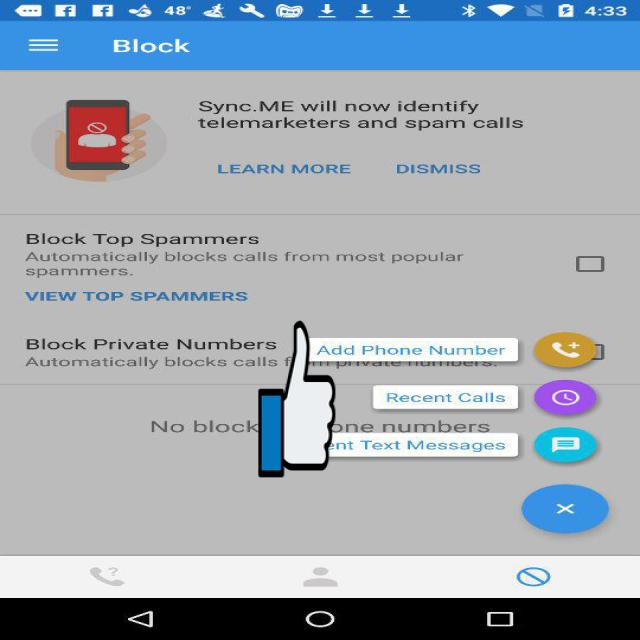privacy zuckering: (258, 317, 336, 481)
